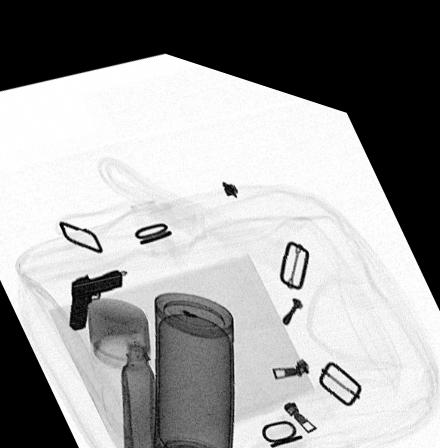Gun: (69, 260, 122, 326)
